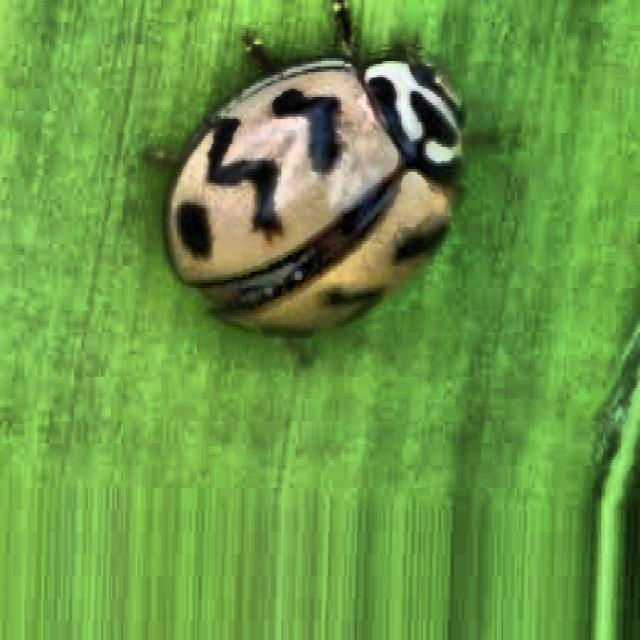Asian-Lady-beetle: (151, 31, 476, 367)
